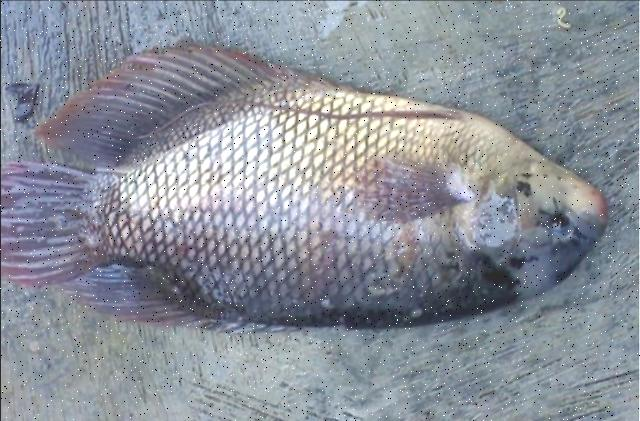Mulut: (556, 166, 620, 272)
Sirip Anal: (15, 23, 348, 177)
Sirip Dada: (336, 142, 488, 238)
Sirip Ekor: (0, 144, 140, 298)
Sirip Perut: (224, 78, 481, 136)
Sirip Punggung: (38, 247, 318, 349)
